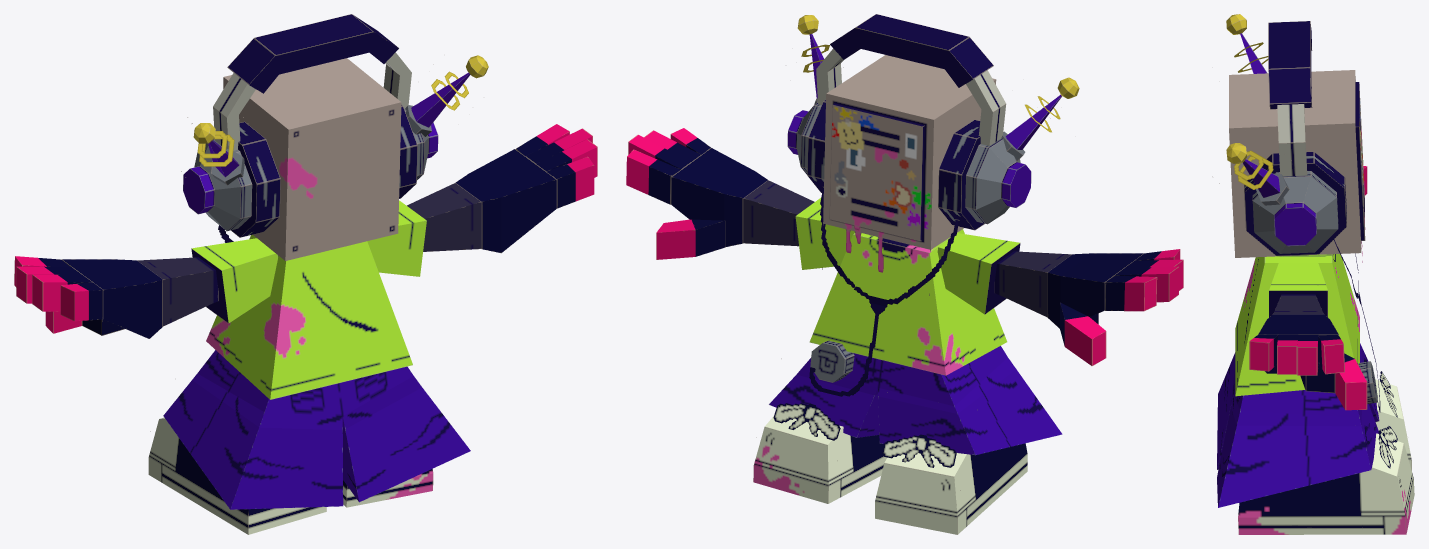
Rendered from mario.fbx.
3 renders of one model, left to right at view 1: azimuth 30°, elevation 25°; view 2: azimuth 150°, elevation 25°; view 3: azimuth 270°, elevation 25°, orthographic. The views are drawn at different scales.
Parts seen in each view (by area): view 1: cuboid.014, cuboid, cuboid.005, cuboid.001, cuboid.008, cuboid.015, cuboid.019, cuboid.017, cuboid.007, cylinder, cuboid.018, cylinder.001 (+15 smaller); view 2: cuboid.014, cuboid.005, cuboid, cuboid.004, cuboid.015, cuboid.016, cuboid.001, cuboid.008, cylinder, cuboid.017, cuboid.019, cuboid.007 (+18 smaller); view 3: cuboid.014, cuboid, cuboid.016, cuboid.005, cylinder.002, cuboid.001, cylinder.003, cuboid.006, cuboid.002, cuboid.009, cuboid.008, cuboid.015 (+17 smaller).
Boxes of the visible parts, bbox=[...] form: cuboid.014: bbox=[163, 350, 470, 509]; cuboid: bbox=[223, 58, 401, 260]; cuboid.005: bbox=[206, 234, 412, 399]; cuboid.001: bbox=[227, 14, 398, 93]; cuboid.008: bbox=[455, 149, 556, 253]; cuboid.015: bbox=[148, 417, 326, 534]; cuboid.019: bbox=[61, 259, 162, 338]; cuboid.017: bbox=[191, 238, 277, 323]; cuboid.007: bbox=[407, 183, 481, 251]; cylinder: bbox=[183, 139, 252, 231]; cuboid.018: bbox=[137, 257, 218, 326]; cylinder.001: bbox=[231, 121, 280, 237]; cuboid.014: bbox=[769, 346, 1062, 455]; cuboid.005: bbox=[809, 229, 1007, 375]; cuboid: bbox=[822, 55, 996, 295]; cuboid.004: bbox=[830, 103, 924, 240]; cuboid.015: bbox=[875, 443, 1027, 534]; cuboid.016: bbox=[753, 416, 887, 503]; cuboid.001: bbox=[830, 14, 993, 87]; cuboid.008: bbox=[671, 147, 767, 247]; cylinder: bbox=[965, 138, 1031, 224]; cuboid.017: bbox=[937, 233, 1020, 314]; cuboid.019: bbox=[1047, 253, 1143, 328]; cuboid.007: bbox=[743, 180, 814, 246]; cuboid.014: bbox=[1217, 343, 1379, 507]; cuboid: bbox=[1229, 70, 1362, 262]; cuboid.016: bbox=[1238, 433, 1414, 534]; cuboid.005: bbox=[1235, 254, 1359, 396]; cylinder.002: bbox=[1252, 171, 1338, 253]; cuboid.001: bbox=[1268, 21, 1312, 109]; cylinder.003: bbox=[1244, 151, 1346, 256]; cuboid.006: bbox=[1269, 262, 1327, 317]; cuboid.002: bbox=[1277, 104, 1307, 176]; cuboid.009: bbox=[1300, 353, 1367, 410]; cuboid.008: bbox=[1258, 314, 1338, 373]; cuboid.015: bbox=[1375, 379, 1411, 470].
Bounding box in the file's own units: 3130 × 2433 × 998.
1 material, 1 textured.
